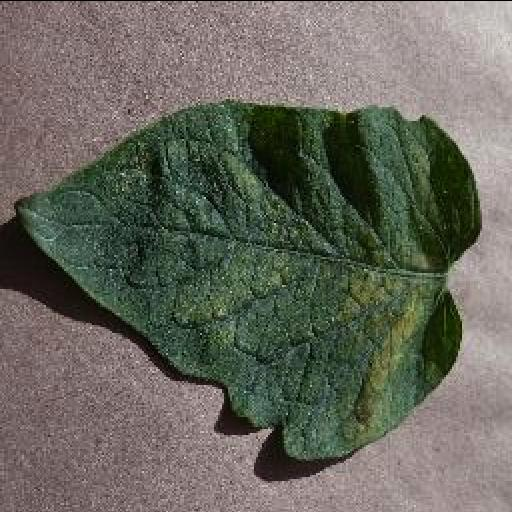disease_tomato: (12, 96, 476, 458)
